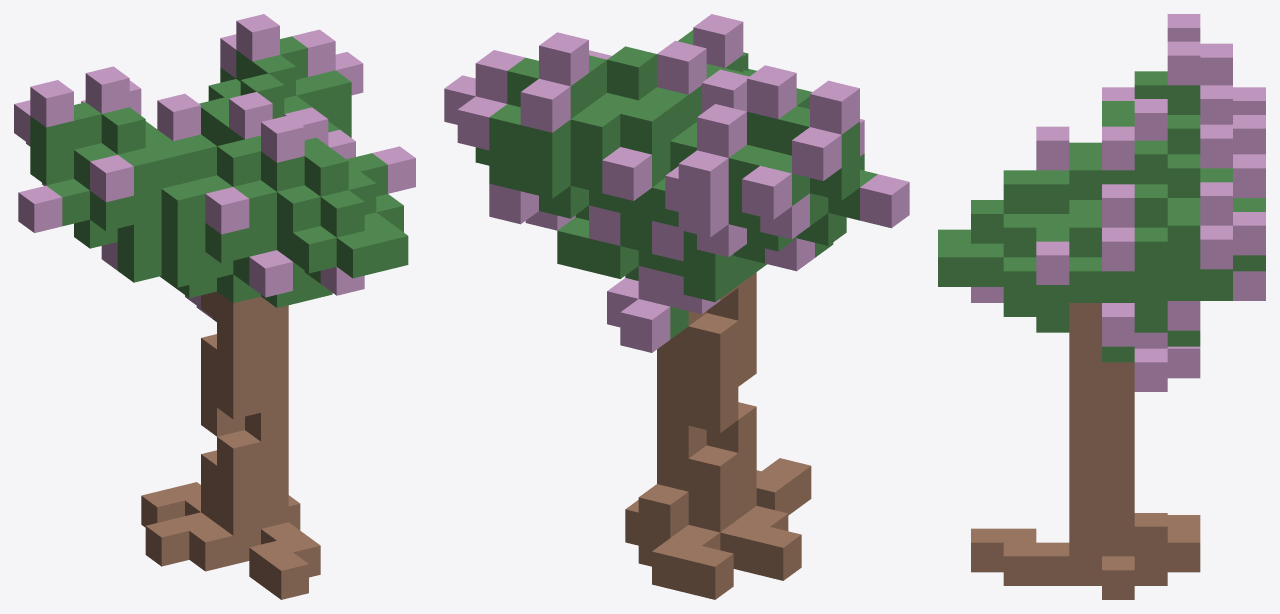
File: tree_g_v1.fbx
The picture shows the model from 3 angles, left to right: view 1: azimuth 30°, elevation 25°; view 2: azimuth 150°, elevation 25°; view 3: azimuth 270°, elevation 25°; orthographic projection. The views are drawn at different scales.
Visible parts, largest first — view 1: tree_g; view 2: tree_g; view 3: tree_g.
Part boxes in pixels (x1,y1,x2,y2): tree_g: [14, 14, 415, 599]; tree_g: [444, 14, 909, 599]; tree_g: [938, 14, 1265, 599].
Bounding box in the file's own units: 13 × 16 × 10.
